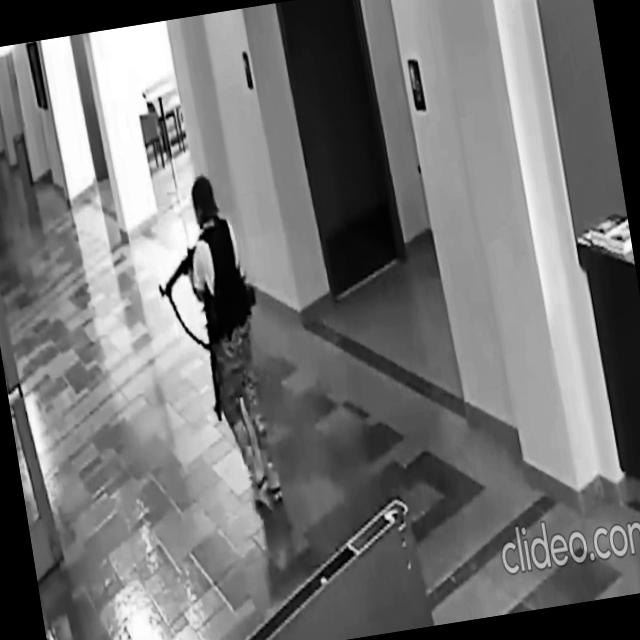gun: (193, 280, 230, 422), (152, 240, 205, 306)
person with a gun: (142, 167, 288, 518)
